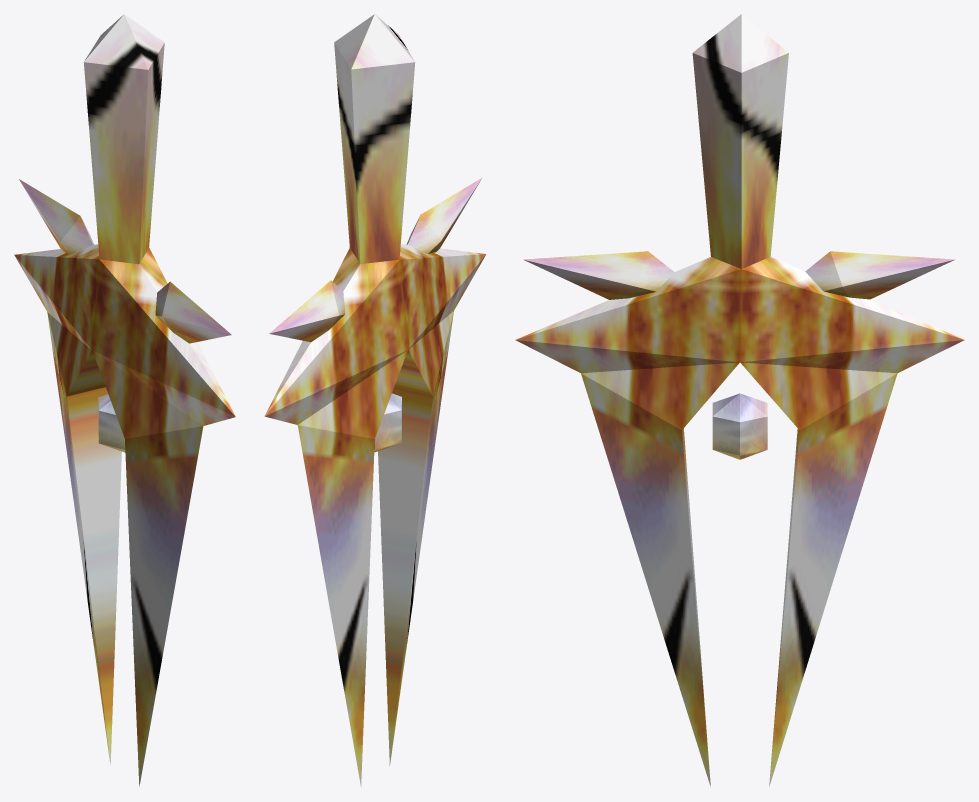
Rendered from twinblade04_3.obj.
3 views of the same model, side by side, from view 1: azimuth 30°, elevation 25°; view 2: azimuth 150°, elevation 25°; view 3: azimuth 270°, elevation 25° (orthographic).
Visible parts, largest first — view 1: cwdhsw04_3l; view 2: cwdhsw04_3l; view 3: cwdhsw04_3l.
Boxes of the visible parts, x1,y1,x2,y2 form: cwdhsw04_3l: (14,14,235,786); cwdhsw04_3l: (264,14,486,787); cwdhsw04_3l: (515,14,964,787).
Size of the model in its own units: 0.0775 by 0.6975 by 0.3675.
